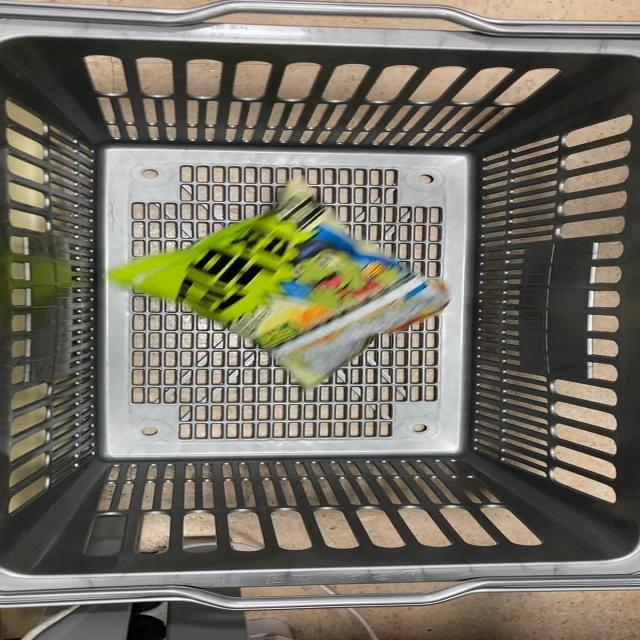ggobukchip: (122, 192, 425, 369)
